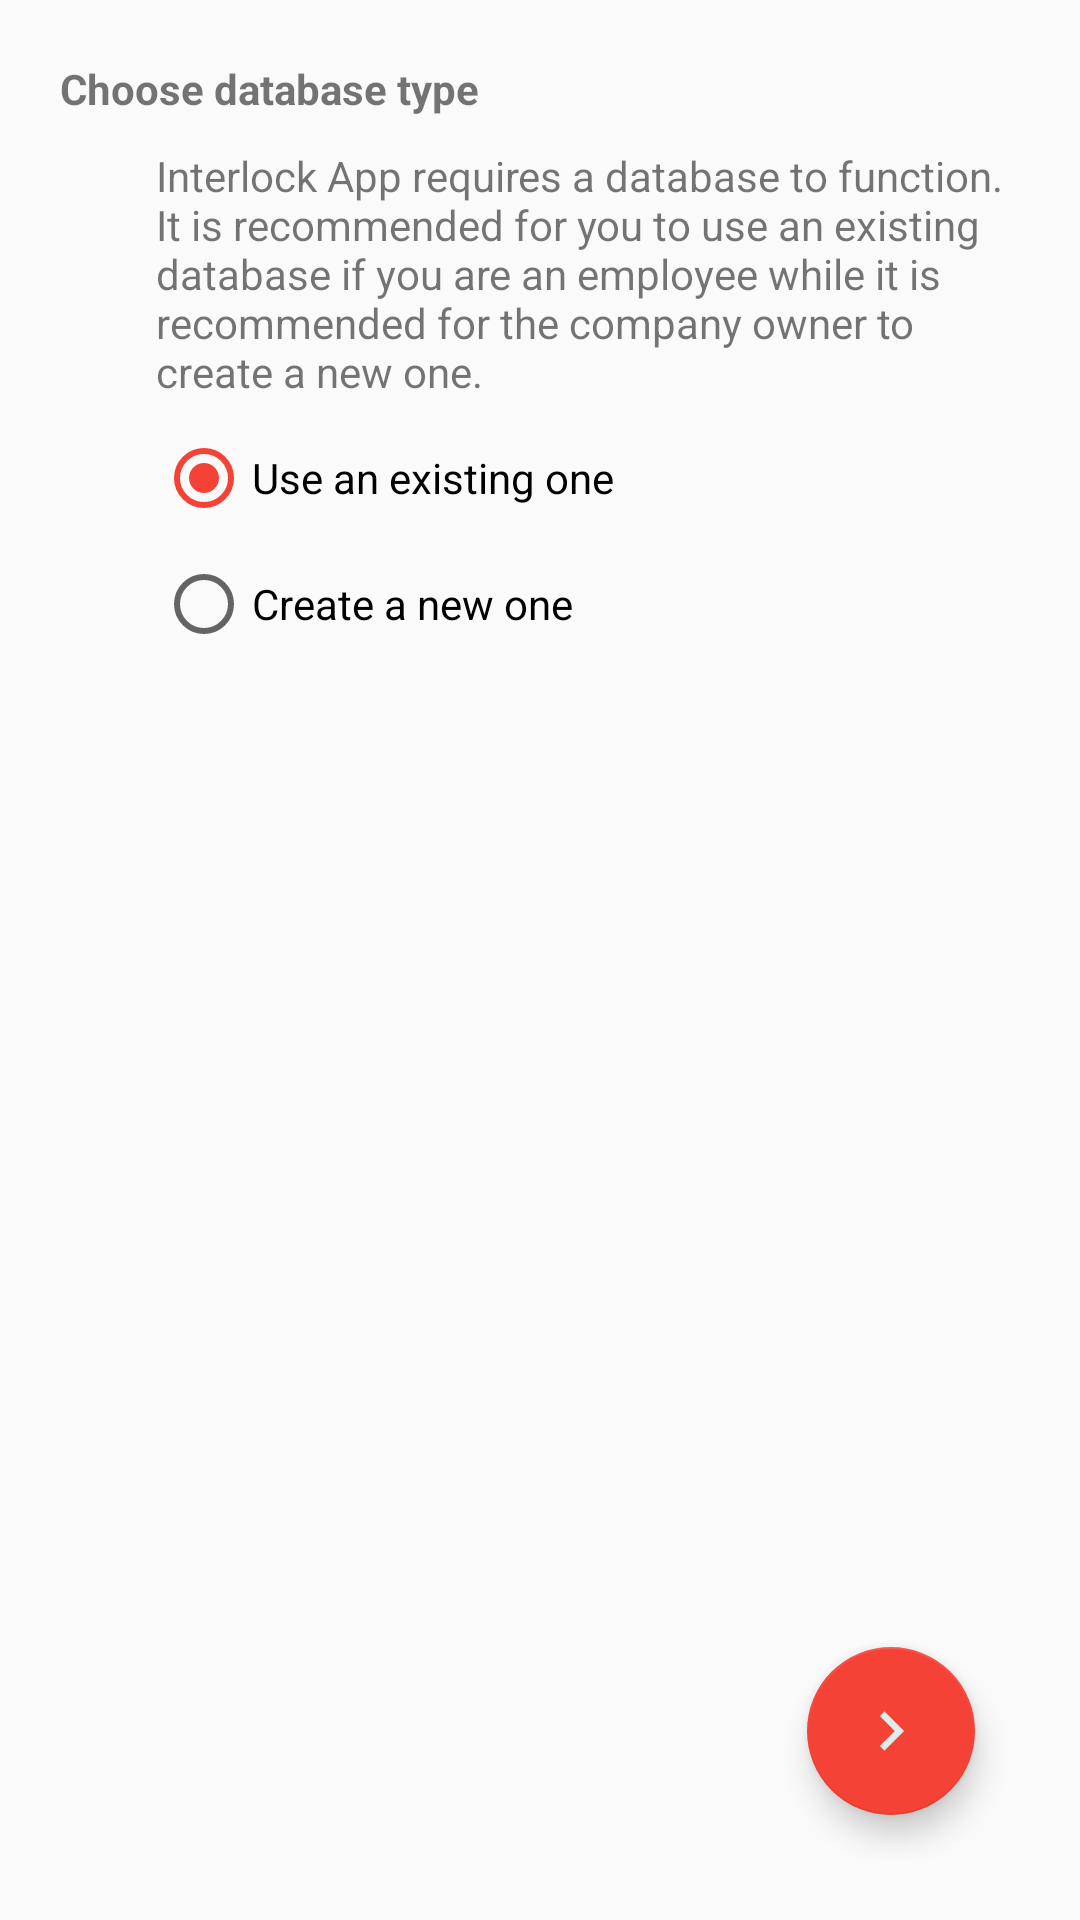

Screen size 1080 × 1920. Icon name, then its center in pixels as (x=x, y=y):
right arrow: (x=891, y=1731)
